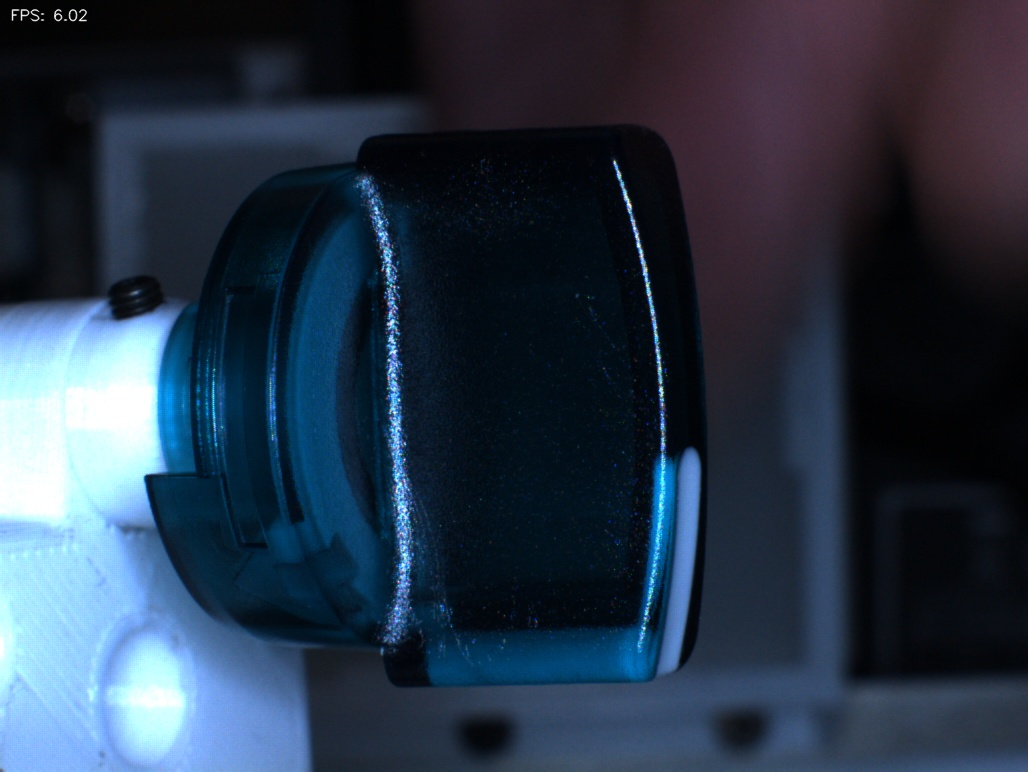Givrage: (390, 488, 457, 659), (557, 277, 633, 418)
